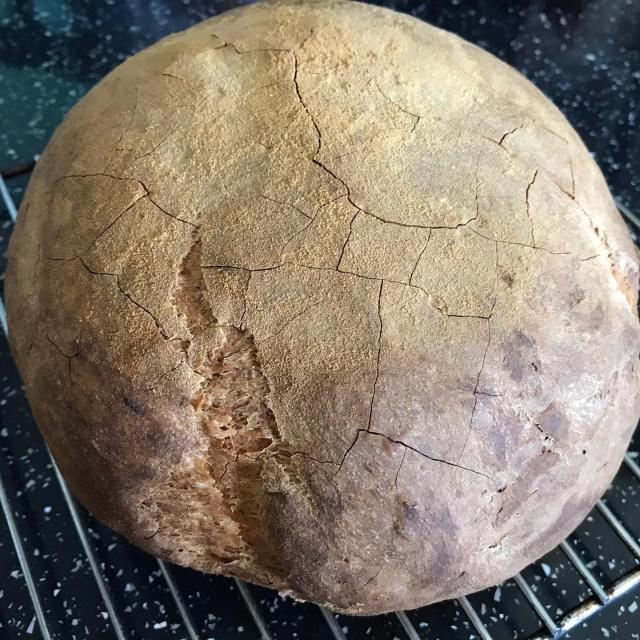Maltese-Bread: (5, 0, 640, 615)
